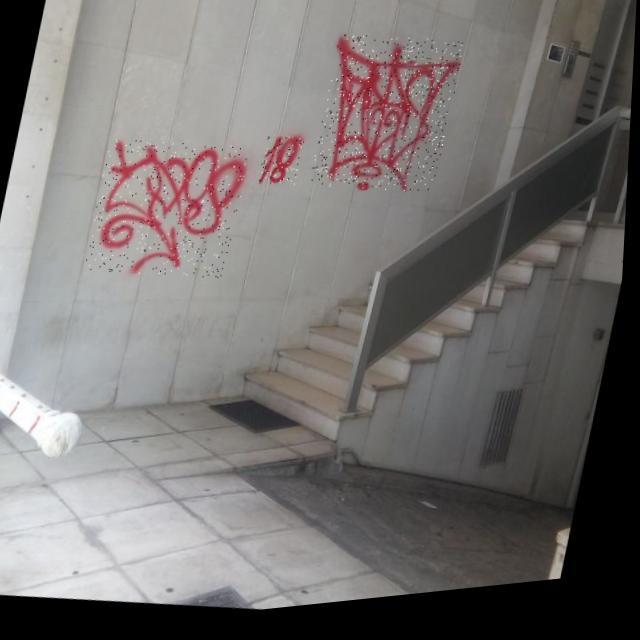-: (310, 31, 467, 212), (85, 130, 254, 296), (260, 138, 308, 195)
